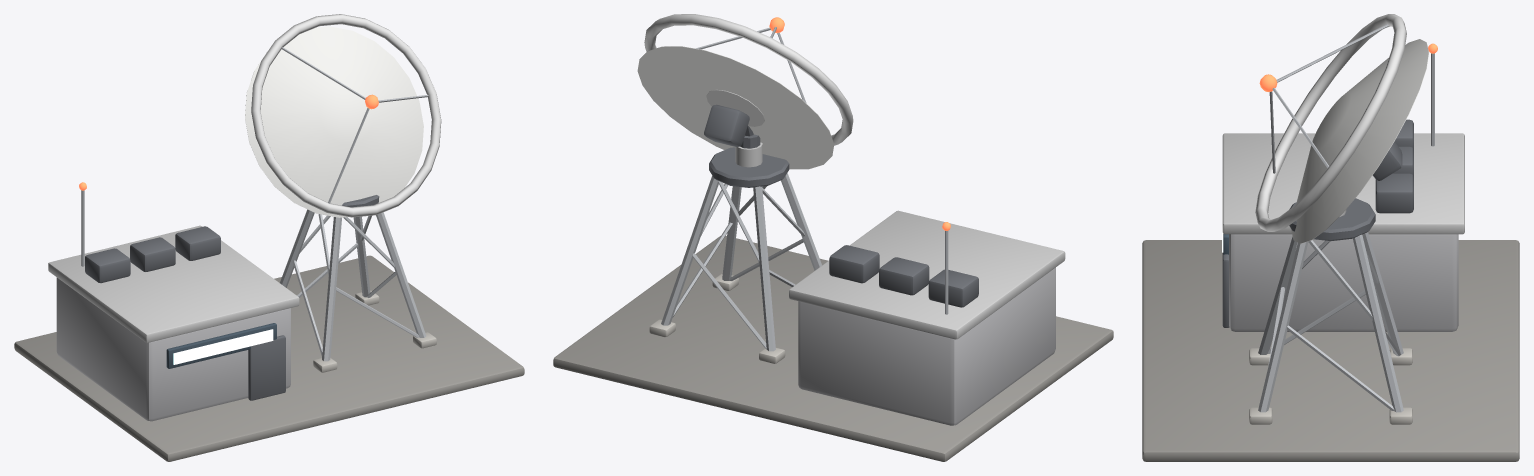
The model's file is radar.glb.
3 views of the same model, side by side, from view 1: azimuth 30°, elevation 25°; view 2: azimuth 150°, elevation 25°; view 3: azimuth 270°, elevation 25° (orthographic). The views are drawn at different scales.
Visible parts, largest first — view 1: radar, dish; view 2: radar, dish; view 3: radar, dish.
Boxes of the visible parts, x1,y1,x2,y2 form: radar: [14, 182, 524, 461]; dish: [245, 14, 441, 217]; radar: [553, 142, 1113, 461]; dish: [637, 14, 853, 169]; radar: [1142, 43, 1519, 461]; dish: [1255, 14, 1429, 243].
Bounding box in the file's own units: 3.96 × 3.24 × 2.96.
